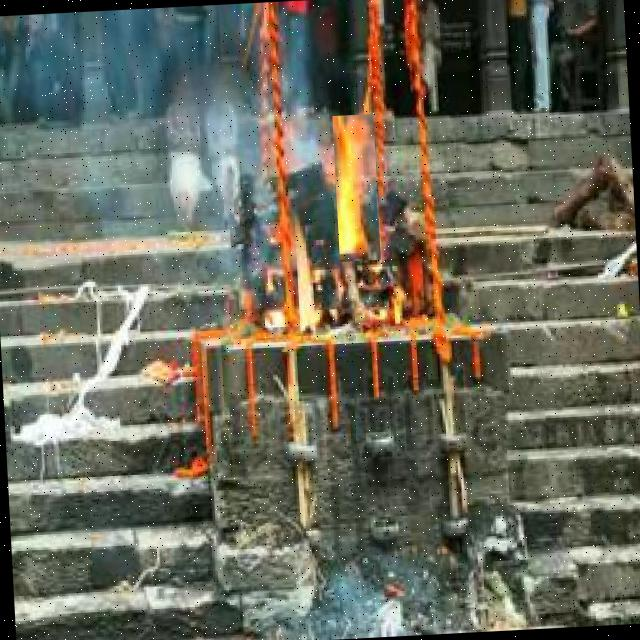fire: (332, 114, 381, 262)
